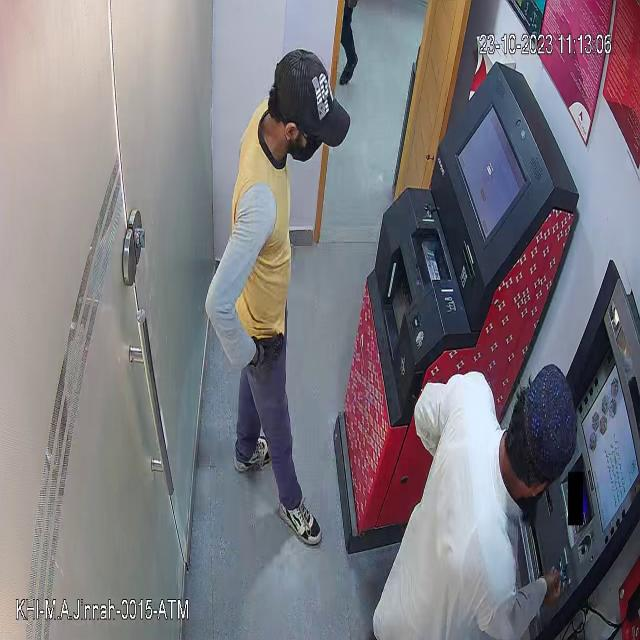atm-card: (555, 548, 571, 584)
